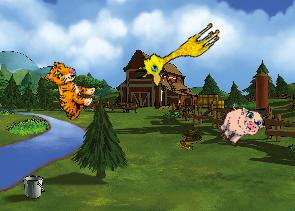giraffe: (134, 12, 224, 90)
pig: (212, 97, 268, 153)
tiger: (33, 57, 102, 124)
